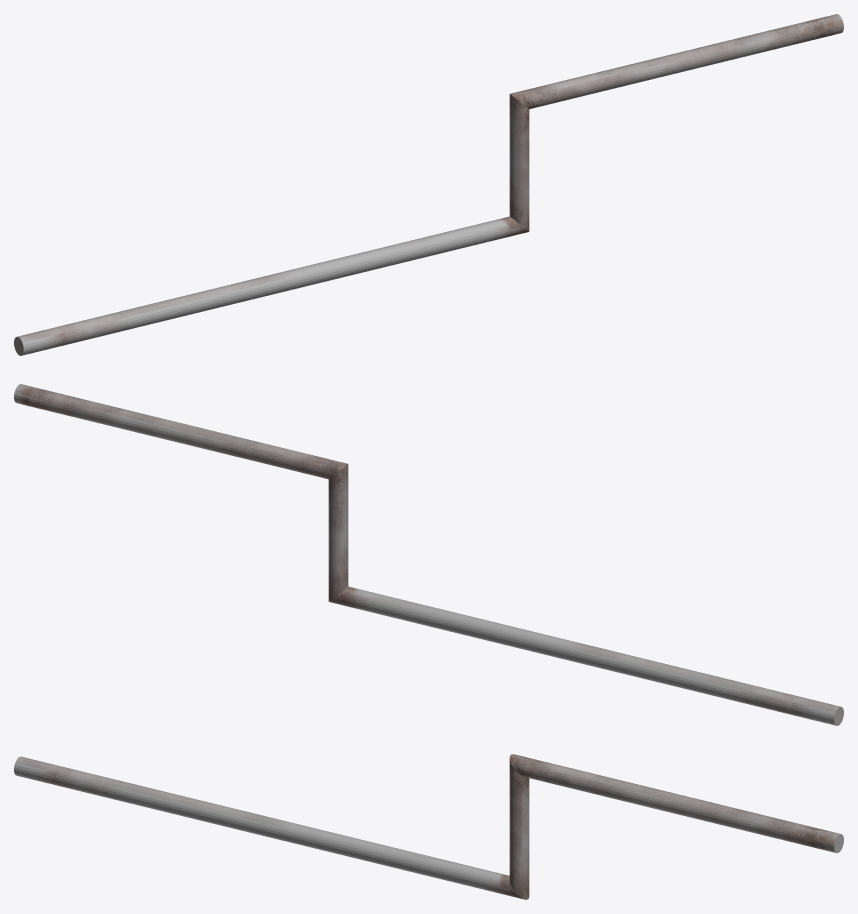
Rendered from Hand.Crank.fbx.
3 renders of one model, top to bottom at view 1: azimuth 30°, elevation 25°; view 2: azimuth 150°, elevation 25°; view 3: azimuth 330°, elevation 25°, orthographic.
Visible parts, largest first — view 1: Hand.Crank v1; view 2: Hand.Crank v1; view 3: Hand.Crank v1.
Boxes of the visible parts, x1=… form: Hand.Crank v1: x1=14, y1=14, x2=843, y2=355; Hand.Crank v1: x1=14, y1=384, x2=843, y2=725; Hand.Crank v1: x1=14, y1=754, x2=843, y2=899.
Bounding box in the file's own units: 38.5 × 6.3 × 0.8.
